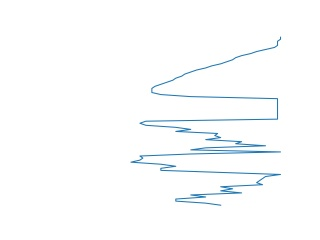floodPlain: (128, 162, 286, 206)
floodSwamp: (129, 123, 283, 164)
meanderPointBar: (148, 34, 284, 116)
